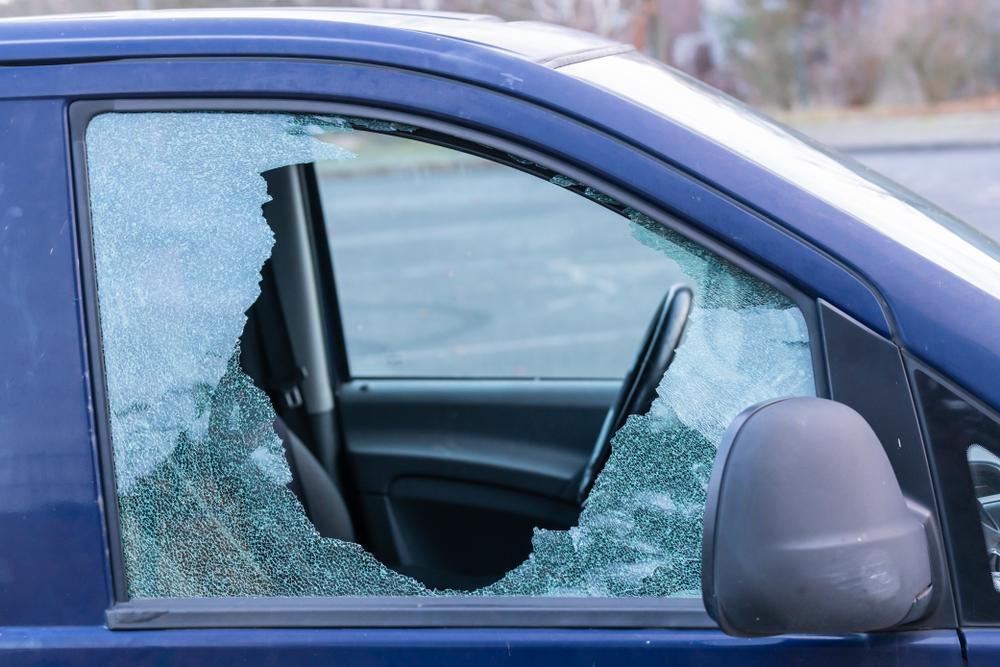glass shatter: (86, 110, 816, 598)
